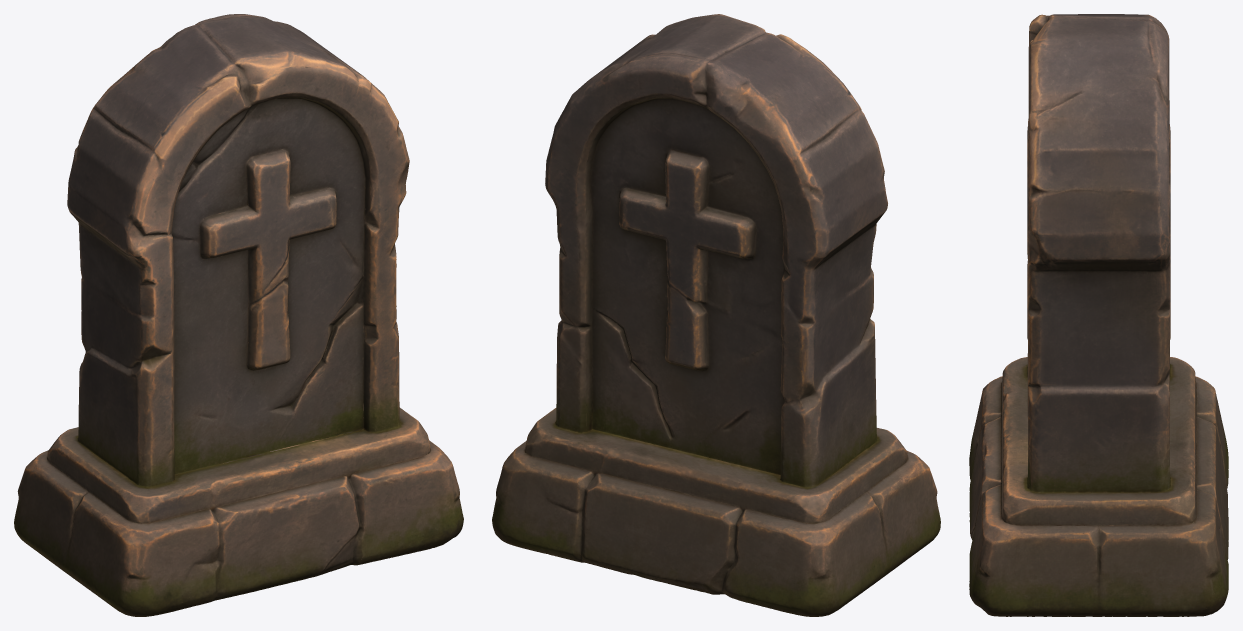
The model's file is tombstone_a.glb.
3 renders of one model, left to right at view 1: azimuth 30°, elevation 25°; view 2: azimuth 150°, elevation 25°; view 3: azimuth 270°, elevation 25°, orthographic.
Bounding box in the file's own units: 0.7232 × 1 × 0.4635.
Materials: 1 (1 with a texture image).
